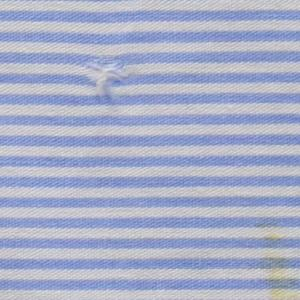Damage: (83, 53, 132, 106)
Stain: (259, 218, 300, 300)
